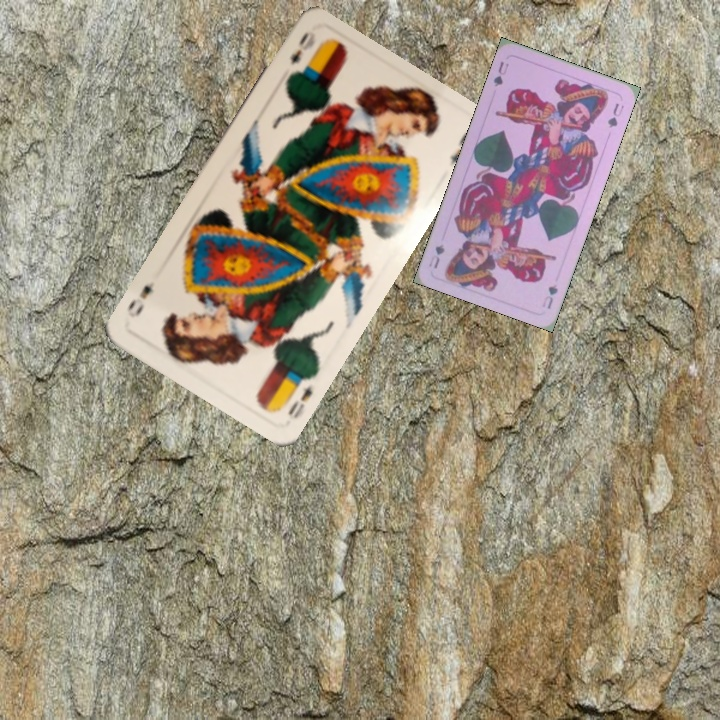EO: (275, 371, 318, 422), (286, 27, 318, 68)
GU: (489, 57, 511, 90), (538, 280, 560, 312)
